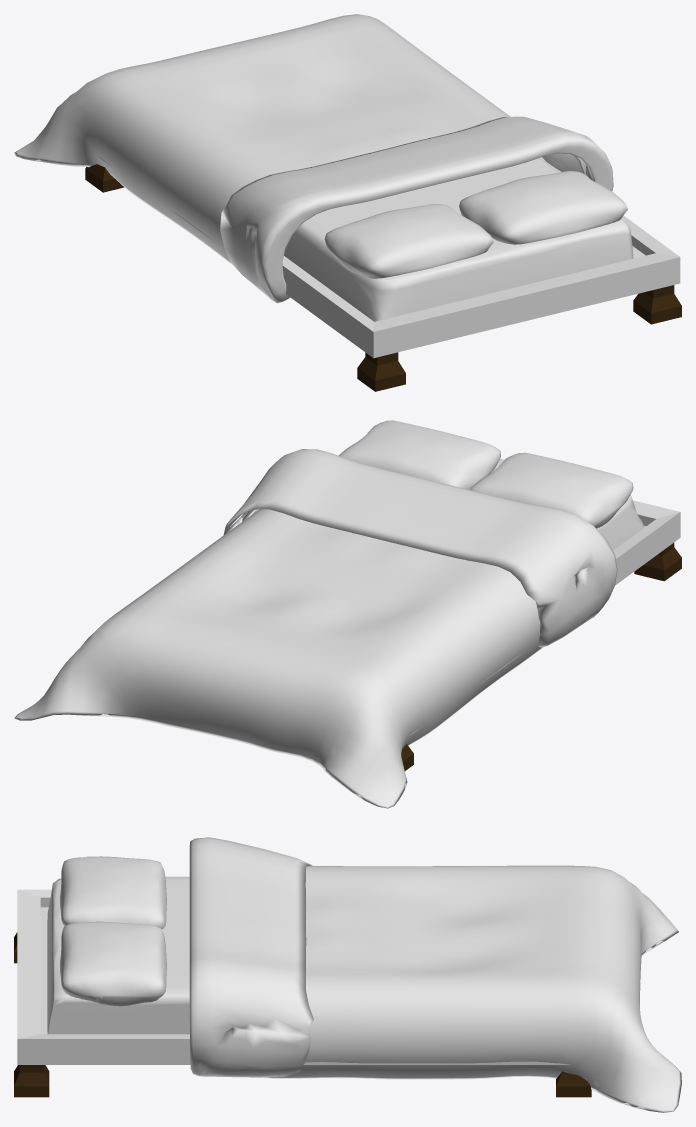
The model's file is bed.fbx.
3 views of the same model, one above another, from view 1: azimuth 30°, elevation 25°; view 2: azimuth 150°, elevation 25°; view 3: azimuth 270°, elevation 25° (orthographic).
Visible parts, largest first — view 1: Plane, Cube.003, Cube.004, Cube.001, Cube; view 2: Plane, Cube.004, Cube.001, Cube.003, Cube; view 3: Plane, Cube.004, Cube.001, Cube.003, Cube.
Part boxes in pixels (<box>): Plane: <box>14,14,613,303</box>; Cube.003: <box>284,158,633,321</box>; Cube.004: <box>324,171,627,278</box>; Cube.001: <box>97,156,680,358</box>; Cube: <box>85,164,681,391</box>; Plane: <box>14,449,617,808</box>; Cube.004: <box>339,420,633,528</box>; Cube.001: <box>410,500,680,735</box>; Cube.003: <box>469,459,644,550</box>; Cube: <box>401,542,681,770</box>; Plane: <box>189,837,681,1112</box>; Cube.004: <box>60,856,166,1006</box>; Cube.001: <box>17,889,570,1064</box>; Cube.003: <box>47,876,189,1034</box>; Cube: <box>14,932,591,1097</box>.
Size of what is drawn, in the model's own units: 614 by 183 by 932.
